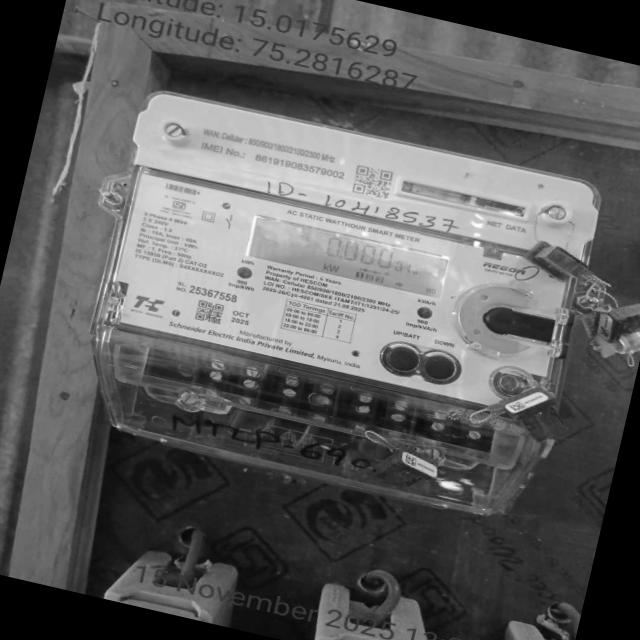meter: (92, 90, 606, 423)
